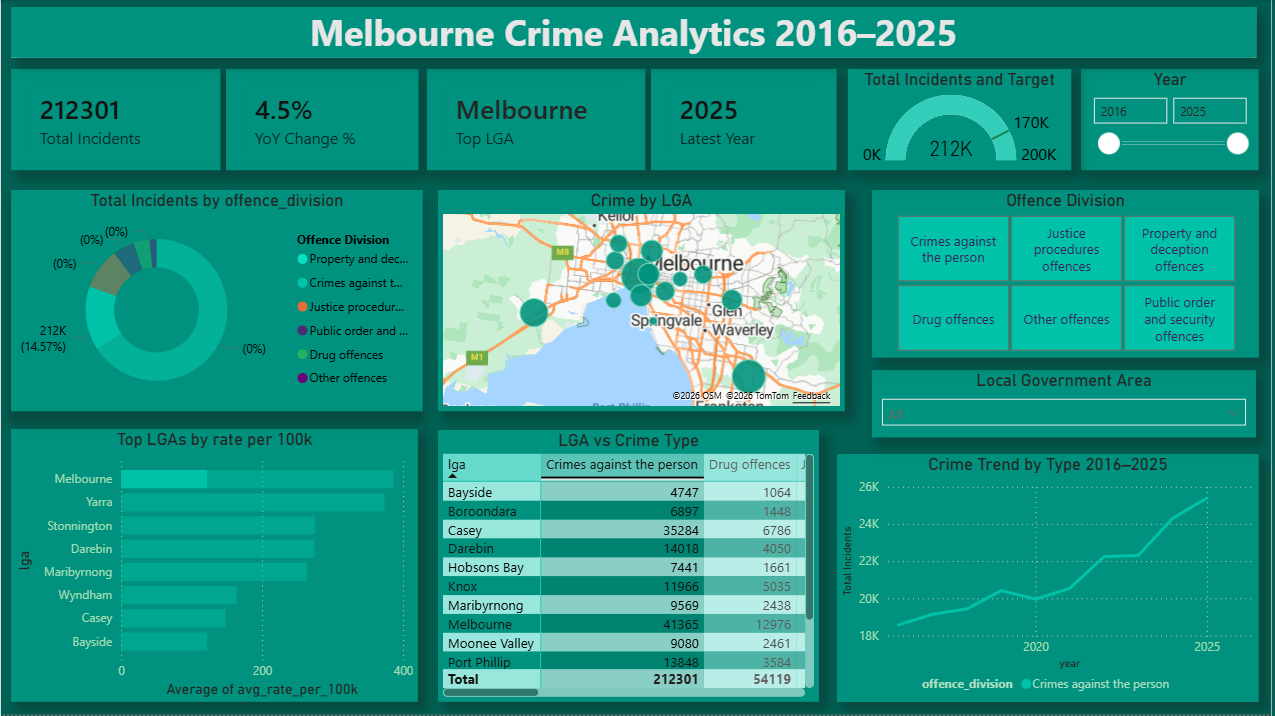

What the dashboard file says about the page in this screenshot:
{"tool":"powerbi","page":{"name":"Page 1","canvas":[1280,720],"ordinal":0},"visuals":[{"type":"cardVisual","fields":{"Data":["public lga_summary.Total Incidents"]},"box":[10.1,69.5,210.6,101.8],"z":0},{"type":"cardVisual","fields":{"Data":["public lga_summary.YoY Change %"]},"box":[226.8,69.5,193.5,101.8],"z":1000},{"type":"cardVisual","fields":{"Data":["public lga_summary.Top LGA"]},"box":[429.4,69.5,219.7,101.8],"z":2000},{"type":"cardVisual","fields":{"Data":["public lga_summary.Latest Year"]},"box":[655.1,69.5,187.5,101.8],"z":3000},{"type":"lineChart","title":"Crime Trend by Type 2016–2025","fields":{"Series":["public lga_summary.offence_division"],"Category":["public lga_summary.year"],"Y":["public lga_summary.Total Incidents"]},"box":[842.6,457.6,425.3,250],"z":4000},{"type":"azureMap","title":"Crime by LGA","fields":{"Y":["public lga_summary.latitude"],"X":["public lga_summary.longitude"],"Size":["public lga_summary.Total Incidents"]},"box":[440.4,191.5,410.2,222.7],"z":5000},{"type":"clusteredBarChart","title":"Top LGAs by rate per 100k","fields":{"Category":["public lga_summary.lga"],"Y":["Avg(public lga_summary.avg_rate_per_100k)"]},"box":[10.1,432.4,410.2,275.1],"z":6000},{"type":"pivotTable","title":"LGA vs Crime Type","fields":{"Rows":["public crime_incidents.lga"],"Values":["public lga_summary.Total Incidents"],"Columns":["public lga_summary.offence_division"]},"box":[440.4,433.4,384,274.1],"z":7000},{"type":"slicer","title":"Year","fields":{"Values":["Date.Year"]},"box":[1088.5,69.5,179.4,101.8],"z":8000},{"type":"slicer","title":"Local Government Area","fields":{"Values":["public lga_summary.lga"]},"box":[877.9,372.9,387,67.5],"z":9000},{"type":"slicer","title":"Offence Division","fields":{"Values":["public lga_summary.offence_division"]},"box":[877.9,191.5,390,169.3],"z":10000},{"type":"textbox","title":"Melbourne Crime Analytics 2016–2025","box":[10.1,7.1,1254.8,51.4],"z":11000},{"type":"donutChart","fields":{"Category":["public lga_summary.offence_division"],"Y":["public lga_summary.Total Incidents"]},"box":[10.1,191.5,415.2,222.7],"z":12000},{"type":"gauge","fields":{"Y":["public lga_summary.Total Incidents"],"TargetValue":["public lga_summary.Target"]},"box":[853.7,69.5,224.8,101.8],"z":13000}]}

Visuals, with their boxes in screenshot pixels (x1, y1, x2, y2), scaled from the page's 1280x720 canvas onto the 1275x716 screenshot:
cardVisual - public lga_summary.Total Incidents: [10, 69, 220, 170]
cardVisual - public lga_summary.YoY Change %: [226, 69, 419, 170]
cardVisual - public lga_summary.Top LGA: [428, 69, 647, 170]
cardVisual - public lga_summary.Latest Year: [653, 69, 839, 170]
"Crime Trend by Type 2016–2025" lineChart: [839, 455, 1263, 704]
"Crime by LGA" azureMap: [439, 190, 847, 412]
"Top LGAs by rate per 100k" clusteredBarChart: [10, 430, 419, 704]
"LGA vs Crime Type" pivotTable: [439, 431, 821, 704]
"Year" slicer: [1084, 69, 1263, 170]
"Local Government Area" slicer: [874, 371, 1260, 438]
"Offence Division" slicer: [874, 190, 1263, 359]
"Melbourne Crime Analytics 2016–2025" textbox: [10, 7, 1260, 58]
donutChart - public lga_summary.offence_division x public lga_summary.Total Incidents: [10, 190, 424, 412]
gauge - public lga_summary.Total Incidents x public lga_summary.Target: [850, 69, 1074, 170]
